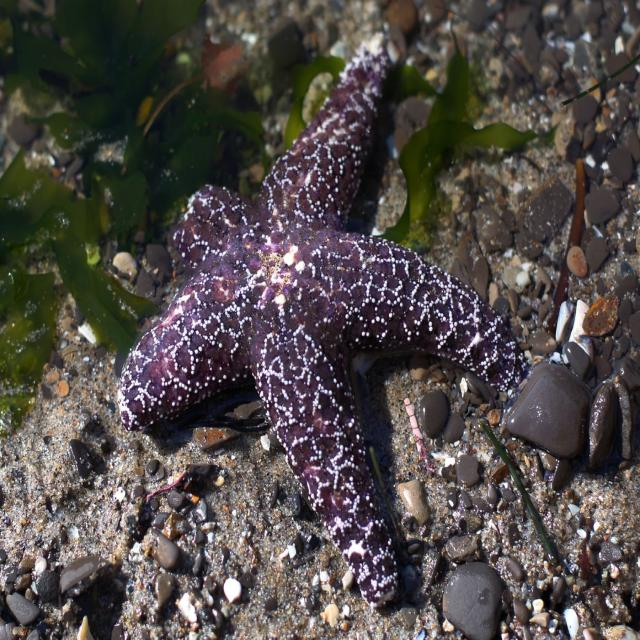starfish: (118, 48, 521, 605)
